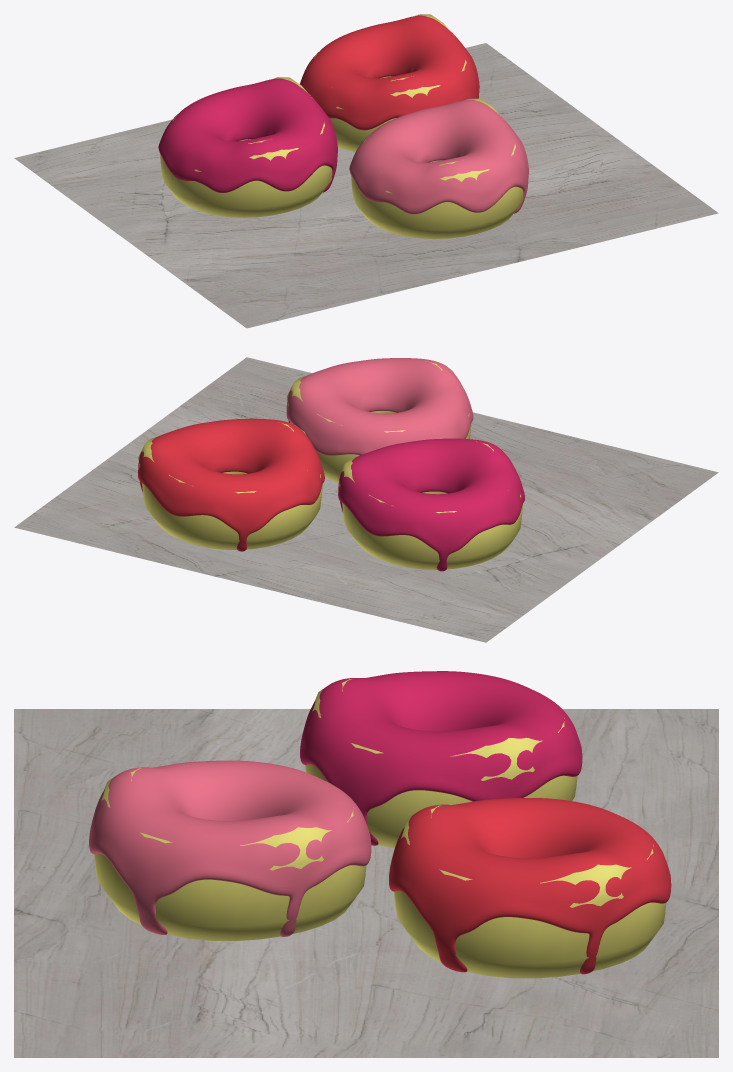
Rendered from donut.glb.
The picture shows the model from 3 angles, top to bottom: view 1: azimuth 30°, elevation 25°; view 2: azimuth 150°, elevation 25°; view 3: azimuth 270°, elevation 25°; orthographic projection. The views are drawn at different scales.
Visible parts, largest first — view 1: Plane, Donut; view 2: Plane, Donut; view 3: Plane, Donut.
Part boxes in pixels (x1,y1,x2,y2): Plane: (14,43,718,328); Donut: (158,14,528,238); Plane: (14,357,718,642); Donut: (138,358,524,571); Plane: (14,709,718,1057); Donut: (89,671,671,978).
Bounding box in the file's own units: 4.17 × 0.6949 × 3.56.
Materials: 7 (1 with a texture image).
